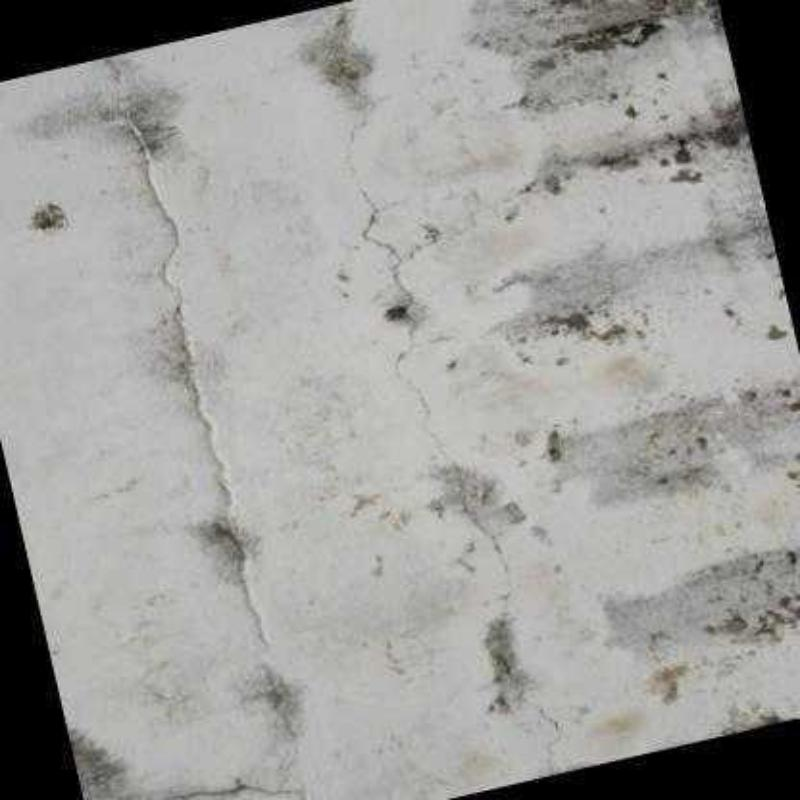pothole: (345, 175, 573, 773), (93, 54, 274, 649), (325, 8, 373, 183), (135, 777, 303, 798)
